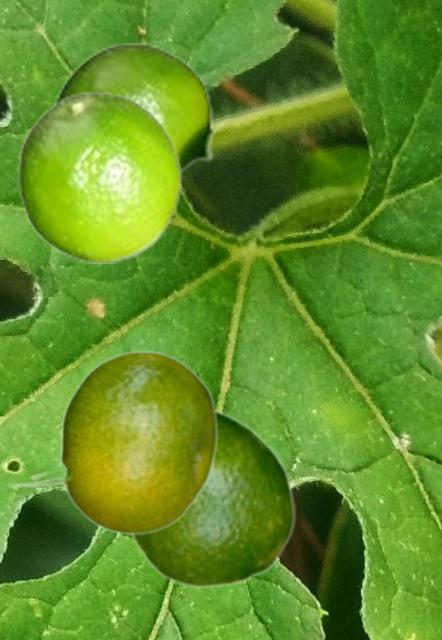calamansi: (7, 349, 217, 534), (128, 406, 296, 588), (17, 90, 182, 262), (52, 43, 231, 175)
